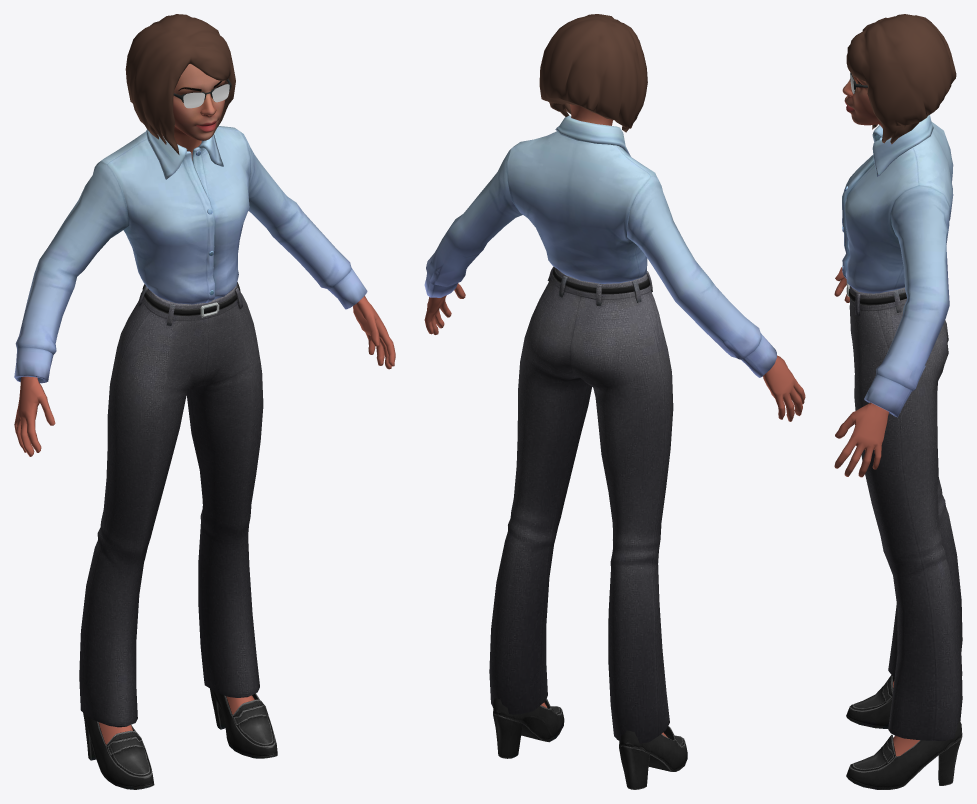
Rendered from teacher.fbx.
The picture shows the model from 3 angles, left to right: view 1: azimuth 30°, elevation 25°; view 2: azimuth 150°, elevation 25°; view 3: azimuth 270°, elevation 25°; orthographic projection.
Visible parts, largest first — view 1: Wolf3D_Outfit_Bottom, Wolf3D_Outfit_Top, Wolf3D_Hair, Wolf3D_Outfit_Footwear, Wolf3D_Body, Wolf3D_Head, Wolf3D_Glasses; view 2: Wolf3D_Outfit_Bottom, Wolf3D_Outfit_Top, Wolf3D_Hair, Wolf3D_Outfit_Footwear, Wolf3D_Body; view 3: Wolf3D_Outfit_Bottom, Wolf3D_Outfit_Top, Wolf3D_Hair, Wolf3D_Outfit_Footwear, Wolf3D_Body, Wolf3D_Head.
Boxes of the visible parts, left/top/right/bottom form: Wolf3D_Outfit_Bottom: left=79, top=282, right=263, bottom=727; Wolf3D_Outfit_Top: left=14, top=126, right=367, bottom=383; Wolf3D_Hair: left=125, top=14, right=235, bottom=154; Wolf3D_Outfit_Footwear: left=83, top=688, right=277, bottom=789; Wolf3D_Body: left=14, top=296, right=395, bottom=744; Wolf3D_Head: left=173, top=64, right=225, bottom=160; Wolf3D_Glasses: left=173, top=79, right=231, bottom=108; Wolf3D_Outfit_Bottom: left=489, top=266, right=673, bottom=743; Wolf3D_Outfit_Top: left=424, top=115, right=776, bottom=377; Wolf3D_Hair: left=539, top=14, right=647, bottom=132; Wolf3D_Outfit_Footwear: left=493, top=698, right=687, bottom=789; Wolf3D_Body: left=424, top=283, right=805, bottom=737; Wolf3D_Outfit_Bottom: left=846, top=281, right=962, bottom=740; Wolf3D_Outfit_Top: left=842, top=115, right=953, bottom=417; Wolf3D_Hair: left=846, top=14, right=956, bottom=144; Wolf3D_Outfit_Footwear: left=846, top=671, right=962, bottom=789; Wolf3D_Body: left=834, top=266, right=919, bottom=756; Wolf3D_Head: left=842, top=74, right=882, bottom=128.
Size of the model in its own units: 92.79 by 177 by 28.04.
Materials: 9 (9 with a texture image).
